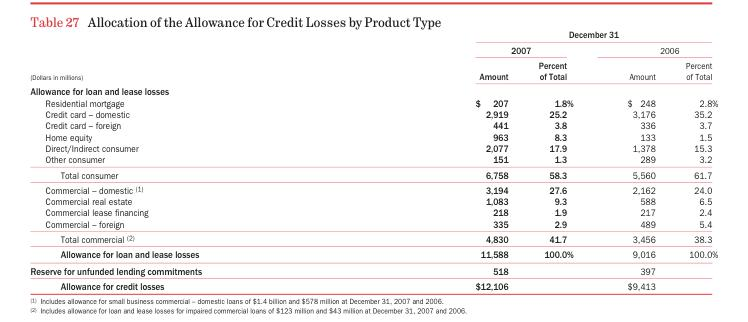table: (29, 29, 717, 291)
table column: (29, 29, 337, 291), (337, 29, 522, 291), (522, 29, 599, 291), (599, 29, 669, 291), (669, 29, 717, 291)
table column header: (29, 29, 717, 83)
table projected row header: (29, 83, 717, 96)
table row: (29, 57, 717, 83), (29, 41, 717, 57), (29, 246, 717, 262), (29, 166, 717, 181), (29, 231, 717, 246), (29, 262, 717, 277), (29, 181, 717, 195), (29, 277, 717, 291), (29, 83, 717, 96), (29, 153, 717, 166), (29, 218, 717, 231), (29, 29, 717, 41), (29, 96, 717, 108), (29, 130, 717, 142), (29, 206, 717, 218), (29, 108, 717, 119), (29, 119, 717, 130), (29, 142, 717, 153), (29, 195, 717, 206)
table spanning cell: (29, 29, 337, 83), (337, 29, 717, 41), (337, 41, 599, 57), (599, 41, 717, 57)
